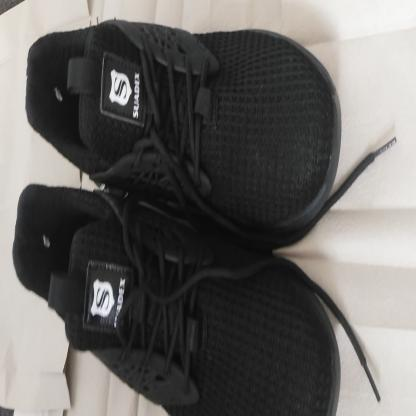safety-shoe: (13, 17, 341, 416)
